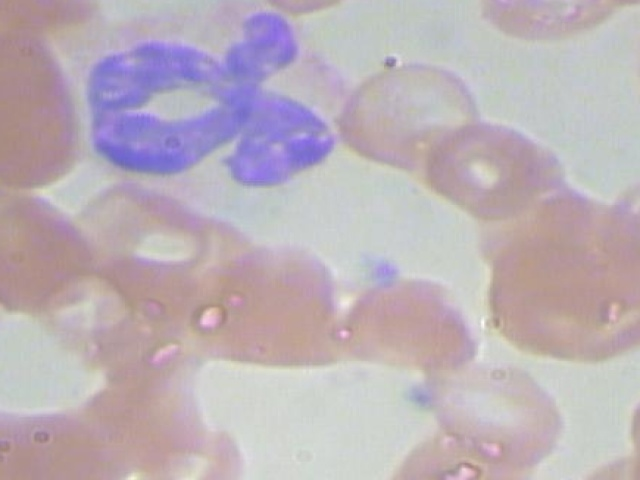Platelets: (357, 254, 411, 291)
RBC: (178, 237, 357, 371), (478, 231, 640, 372), (402, 348, 579, 466), (331, 53, 490, 172), (327, 272, 490, 381), (0, 23, 89, 191), (422, 114, 560, 217), (0, 178, 99, 312), (0, 401, 136, 480), (478, 0, 632, 50), (606, 188, 640, 295), (621, 0, 640, 105), (621, 388, 640, 480)
WBC: (51, 0, 373, 208)
